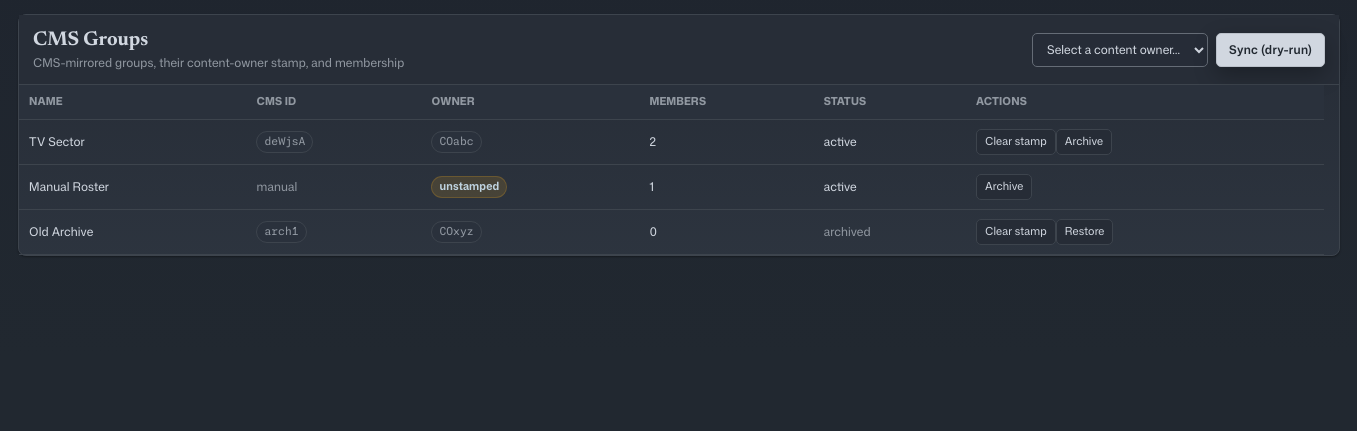
GroupsView sync stepper › renders the preview diff with a CONFLICT row (warn tone), a disabled Apply, and the remedy + unknown notes
This screenshot has width=1357, height=431.
Select "OWNERaaa" in the dropdown named "Content owner": (1120, 50) [1032,32,1208,66]
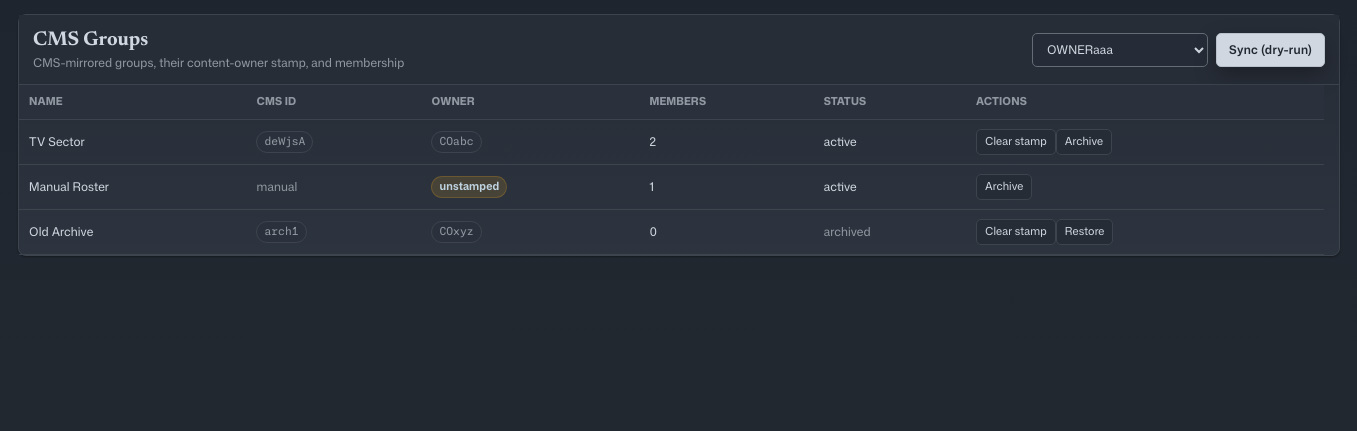
Click the button "Sync (dry-run)": (1270, 50) [1216,32,1325,66]
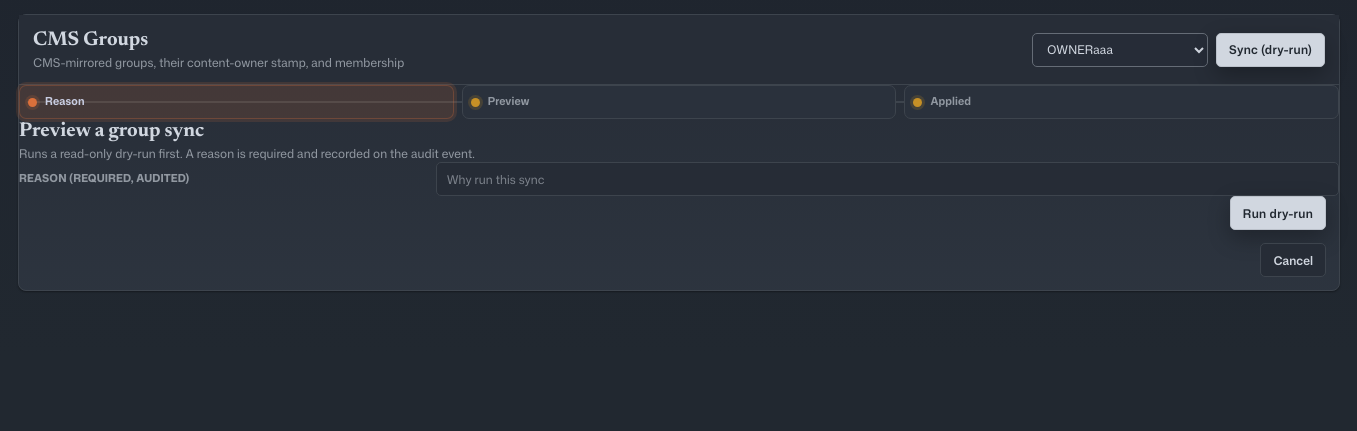
In the field labelled "Reason (required, audited)": (887, 179) [436,162,1339,196], type "cms sync"
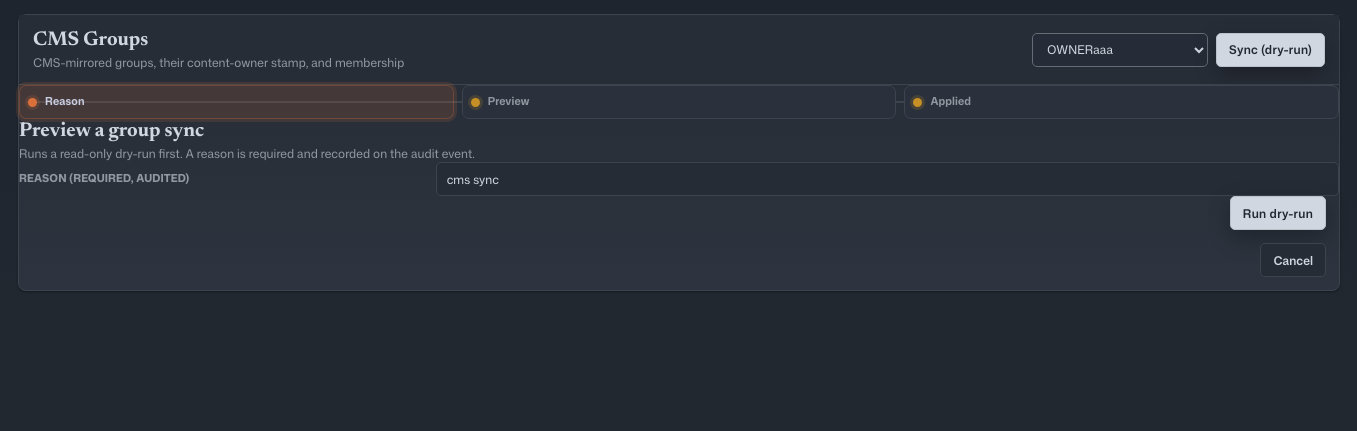
Click the button "Run dry-run": (1278, 213) [1230,196,1326,230]
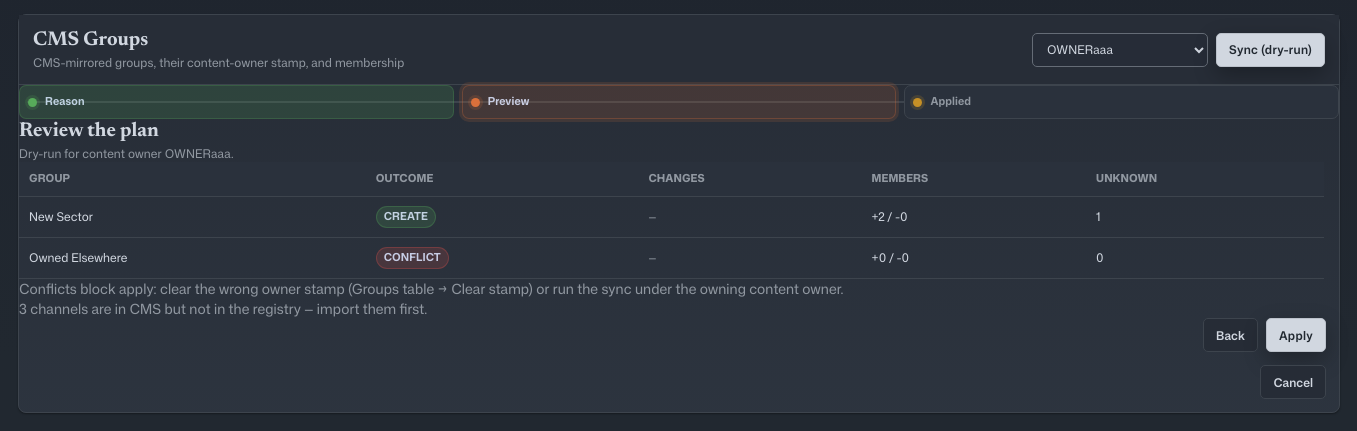
Check: the text "Review the plan" is shown, box [19,121,159,141]
Check: the text "New Sector" is shown, box [19,196,366,237]
Check: the text "Owned Elsewhere" is shown, box [19,237,366,278]
